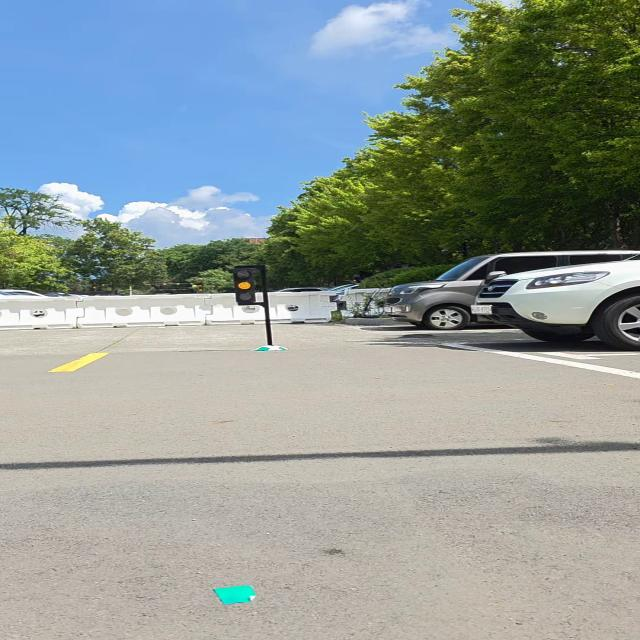yellow: (232, 268, 257, 303)
